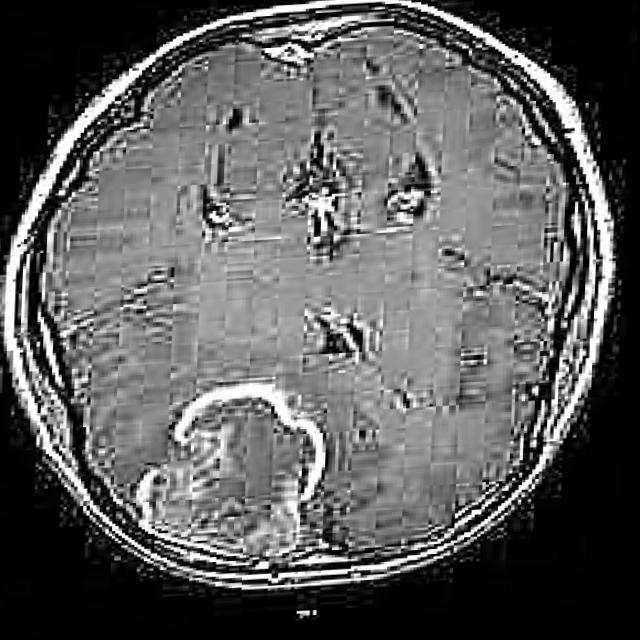Tumor: (137, 388, 320, 564)
